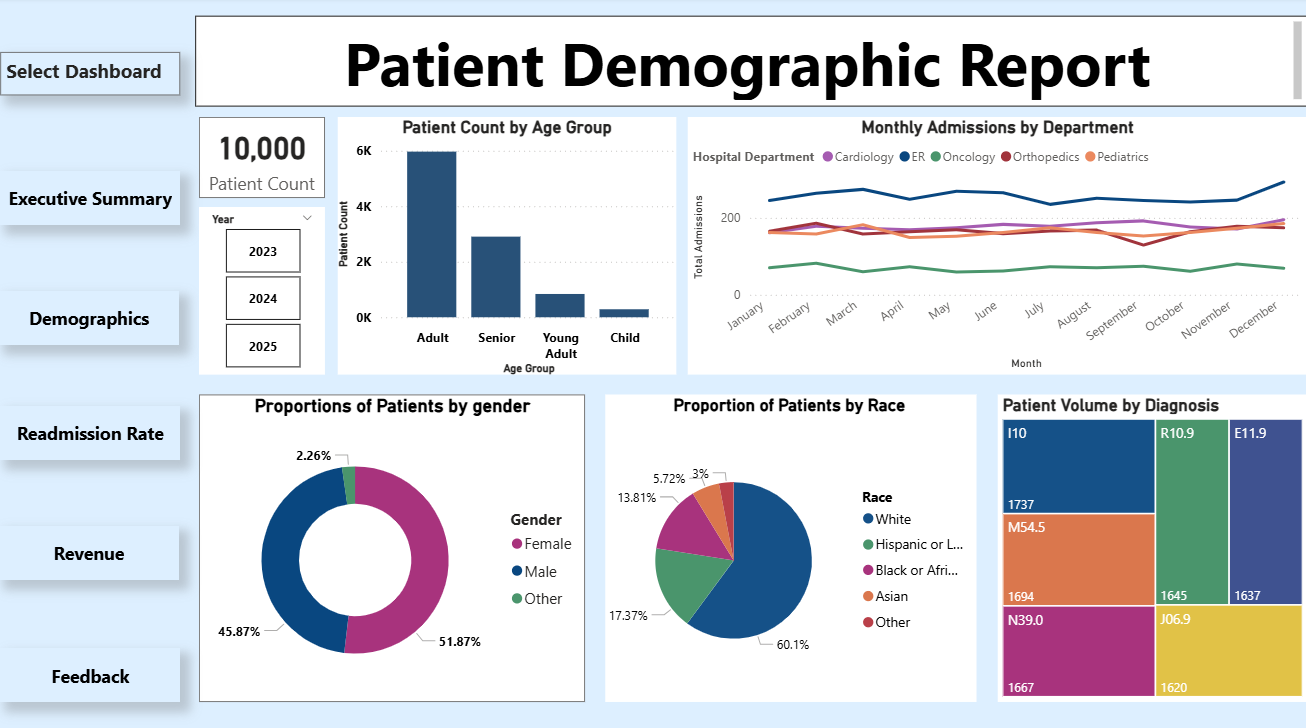

Layout of this report page (visuals, bound fields, positions):
{"tool":"powerbi","page":{"name":"Demographics","canvas":[1280,720],"ordinal":1},"visuals":[{"type":"card","fields":{"Values":["emr_data.Patient Count"]},"box":[195.7,117.4,123.5,79.5],"z":0},{"type":"textbox","box":[191.4,18.6,1088.6,88.6],"z":1000},{"type":"donutChart","title":"Proportions of Patients by gender","fields":{"Category":["emr_data.Gender"],"Y":["emr_data.Patient Count"]},"box":[195.7,388.9,377.9,300.8],"z":2000},{"type":"textbox","box":[1.2,53.8,176.1,42.8],"z":3000},{"type":"actionButton","title":"Executive Summary","box":[1.2,399.9,176.1,52.6],"z":4000},{"type":"actionButton","title":"Executive Summary","box":[1.2,170,176.1,52.6],"z":5000},{"type":"actionButton","title":"Executive Summary","box":[0,517.3,176.1,52.6],"z":6000},{"type":"actionButton","title":"Executive Summary","box":[0,287.4,176.1,52.6],"z":7000},{"type":"actionButton","title":"Executive Summary","box":[1.2,637.1,176.1,52.6],"z":8000},{"type":"clusteredColumnChart","fields":{"Category":["emr_data.Age Group"],"Y":["emr_data.Patient Count"]},"box":[331.4,117.4,331.4,251.9],"z":9000},{"type":"lineChart","title":"Monthly Admissions by Department","fields":{"Y":["emr_data.Total Admissions"],"Category":["emr_data.Visit Date.Variation.Date Hierarchy.Month"],"Series":["emr_data.Hospital Department"]},"box":[673.8,117.4,606.5,251.9],"z":10000},{"type":"pieChart","title":"Proportion of Patients by Race","fields":{"Category":["emr_data.Race"],"Y":["emr_data.Patient Count"]},"box":[593,388.9,363.2,300.8],"z":11000},{"type":"treemap","title":"Patient Volume by Diagnosis","fields":{"Values":["emr_data.Patient Count"],"Group":["emr_data.Primary Diagnosis"]},"box":[977,388.9,303.3,300.8],"z":12000},{"type":"slicer","fields":{"Values":["emr_data.Visit Date.Variation.Date Hierarchy.Year"]},"box":[195.7,205.4,123.5,163.9],"z":13000}]}

Visuals, with their boxes in screenshot pixels (x1, y1, x2, y2), scaled from the page's 1280x720 canvas onto the 1306x728 screenshot:
card - emr_data.Patient Count: 200 119 326 199
textbox: 195 19 1305 108
"Proportions of Patients by gender" donutChart: 200 393 585 697
textbox: 1 54 181 98
"Executive Summary" actionButton: 1 404 181 458
"Executive Summary" actionButton: 1 172 181 225
"Executive Summary" actionButton: 0 523 180 576
"Executive Summary" actionButton: 0 291 180 344
"Executive Summary" actionButton: 1 644 181 697
clusteredColumnChart - emr_data.Age Group x emr_data.Patient Count: 338 119 676 373
"Monthly Admissions by Department" lineChart: 687 119 1305 373
"Proportion of Patients by Race" pieChart: 605 393 976 697
"Patient Volume by Diagnosis" treemap: 997 393 1305 697
slicer - emr_data.Visit Date.Variation.Date Hierarchy.Year: 200 208 326 373
